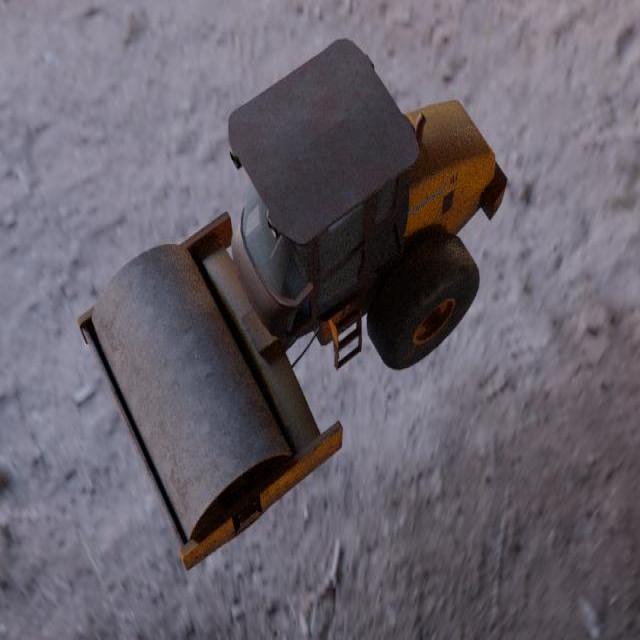Roller: (76, 37, 508, 571)
